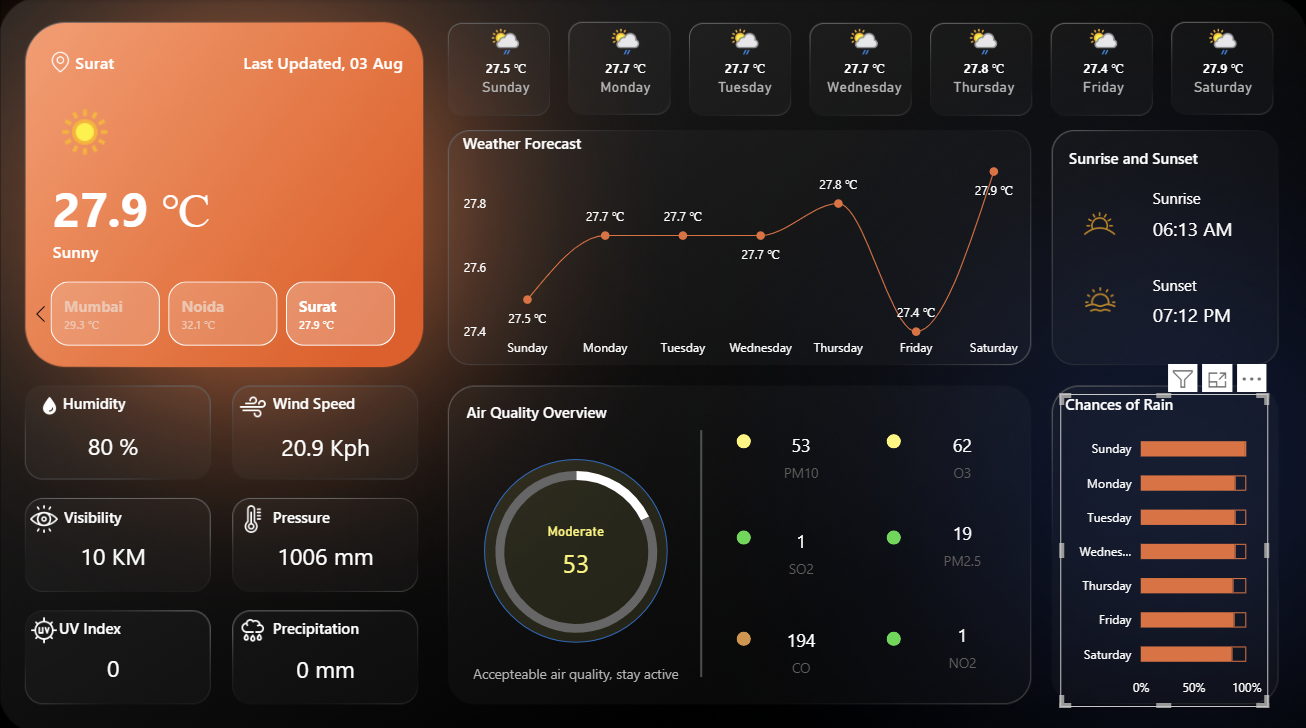

What the dashboard file says about the page in this screenshot:
{"tool":"powerbi","page":{"name":"Page 1","canvas":[1280,720],"ordinal":0},"visuals":[{"type":"shape","box":[474.8,450.3,179.9,179.9],"z":0},{"type":"donutChart","fields":{"Y":["Sum(Current.current.air_quality.pm10)","_Measures Table.Left_value_PM10"]},"box":[461.3,433.2,208,216.6],"z":1000},{"type":"card","fields":{"Values":["Sum(Current.current.air_quality.pm10)"]},"box":[521.3,514,86.9,66.1],"z":2000},{"type":"advancedSlicerVisual","fields":{"Values":["Locations.location.name"]},"box":[25.6,272.1,388.4,73.3],"z":3000},{"type":"shape","box":[53.1,172.7,194.5,62.8],"z":4000},{"type":"shape","box":[53.1,227.1,353.9,38.6],"z":5000},{"type":"shape","box":[74.9,44.7,129.2,32.6],"z":6000},{"type":"shape","box":[229.5,44.7,165.5,32.6],"z":7000},{"type":"image","box":[44.7,44.7,30.2,32.6],"z":8000},{"type":"cardVisual","fields":{"Data":["Min(Current.current.condition.icon)"]},"box":[25.4,73.7,99,99],"z":9000},{"type":"image","box":[34.9,379.1,27.9,37.2],"z":10000},{"type":"image","box":[230.2,379.1,37.2,40.7],"z":11000},{"type":"image","box":[25.6,490.7,37.2,37.2],"z":12000},{"type":"image","box":[230.2,490.7,37.2,37.2],"z":13000},{"type":"image","box":[25.6,600,37.2,37.2],"z":14000},{"type":"image","box":[230.2,600,37.2,37.2],"z":15000},{"type":"shape","box":[62.8,379.1,110.5,32.6],"z":16000},{"type":"shape","box":[267.4,379.1,110.5,32.6],"z":17000},{"type":"shape","box":[64,490.7,110.5,32.6],"z":18000},{"type":"shape","box":[267.4,490.7,110.5,32.6],"z":19000},{"type":"shape","box":[59.3,600,110.5,32.6],"z":20000},{"type":"shape","box":[267.4,600,110.5,32.6],"z":21000},{"type":"card","fields":{"Values":["_Measures Table.Humidity"]},"box":[53.5,419.8,116.3,38.4],"z":22000},{"type":"card","fields":{"Values":["_Measures Table.Wind_speed"]},"box":[261.6,420.9,116.3,38.4],"z":23000},{"type":"card","fields":{"Values":["_Measures Table.Visibility"]},"box":[53.5,527.9,116.3,38.4],"z":24000},{"type":"card","fields":{"Values":["_Measures Table.Pressure"]},"box":[261.6,527.9,116.3,38.4],"z":25000},{"type":"card","fields":{"Values":["_Measures Table.UV_index"]},"box":[53.5,637.2,116.3,38.4],"z":26000},{"type":"card","fields":{"Values":["_Measures Table.Precipitation"]},"box":[261.6,638.4,116.3,38.4],"z":27000},{"type":"advancedSlicerVisual","fields":{"Values":["Forecast_Day.Day_name"]},"box":[437.2,18.6,822.1,94.2],"z":28000},{"type":"lineChart","title":"Weather Forecast","fields":{"Y":["Sum(Forecast_Day.forecast.forecastday.day.avgtemp_c)"],"Category":["Forecast_Day.Day_name"]},"box":[448.8,131.4,560.5,229.1],"z":29000},{"type":"shape","box":[1047.3,139.8,133.7,33.1],"z":30000},{"type":"shape","box":[1129.4,203.6,121.4,42.9],"z":31000},{"type":"shape","box":[1129.4,288.2,121.4,42.9],"z":32000},{"type":"image","box":[1047.3,195,60.1,50.3],"z":33000},{"type":"image","box":[1058.3,273.5,39.2,42.9],"z":34000},{"type":"shape","box":[1129.4,177.8,121.4,34.3],"z":35000},{"type":"shape","box":[1129.4,266.1,121.4,29.4],"z":36000},{"type":"hundredPercentStackedBarChart","title":"Chances of Rain","fields":{"Y":["Sum(Forecast_Day.forecast.forecastday.day.daily_chance_of_rain)","_Measures Table.left Updated data current"],"Category":["Forecast_Day.Day_name"]},"box":[1039.5,387.2,202.3,305.8],"z":37000},{"type":"shape","box":[458.1,388.4,146.5,32.6],"z":38000},{"type":"card","fields":{"Values":["Sum(Current.current.air_quality.o3)"]},"box":[901.3,412.1,85.3,69.9],"z":39000},{"type":"card","fields":{"Values":["Sum(Current.current.air_quality.pm2_5)"]},"box":[901.3,502.1,85.3,64],"z":40000},{"type":"card","fields":{"Values":["Sum(Current.current.air_quality.pm10)"]},"box":[741.4,412.1,87.6,69.9],"z":41000},{"type":"card","fields":{"Values":["Sum(Current.current.air_quality.so2)"]},"box":[741.4,506.9,87.6,69.9],"z":42000},{"type":"card","fields":{"Values":["Sum(Current.current.air_quality.co)"]},"box":[741.4,602.8,87.6,69.9],"z":43000},{"type":"card","fields":{"Values":["Sum(Current.current.air_quality.no2)"]},"box":[901.3,598.1,85.3,69.9],"z":44000},{"type":"shape","box":[722.4,426.4,14.2,14.2],"z":45000},{"type":"shape","box":[869.3,426.4,14.2,14.2],"z":46000},{"type":"shape","box":[722.4,519.9,14.2,14.2],"z":47000},{"type":"shape","box":[869.3,519.9,14.2,14.2],"z":48000},{"type":"shape","box":[722.4,619.4,14.2,14.2],"z":49000},{"type":"shape","box":[869.3,619.4,14.2,14.2],"z":50000},{"type":"shape","box":[678.6,421.6,16.6,241.6],"z":51000},{"type":"shape","box":[454,632.7,221.5,55.1],"z":52000}]}

Visuals, with their boxes in screenshot pixels (x1, y1, x2, y2), scaled from the page's 1280x720 canvas onto the 1306x728 screenshot:
shape: x1=484 y1=455 x2=668 y2=637
donutChart - Sum(Current.current.air_quality.pm10) x _Measures Table.Left_value_PM10: x1=471 y1=438 x2=683 y2=657
card - Sum(Current.current.air_quality.pm10): x1=532 y1=520 x2=621 y2=587
advancedSlicerVisual - Locations.location.name: x1=26 y1=275 x2=422 y2=349
shape: x1=54 y1=175 x2=253 y2=238
shape: x1=54 y1=230 x2=415 y2=269
shape: x1=76 y1=45 x2=208 y2=78
shape: x1=234 y1=45 x2=403 y2=78
image: x1=46 y1=45 x2=76 y2=78
cardVisual - Min(Current.current.condition.icon): x1=26 y1=75 x2=127 y2=175
image: x1=36 y1=383 x2=64 y2=421
image: x1=235 y1=383 x2=273 y2=424
image: x1=26 y1=496 x2=64 y2=534
image: x1=235 y1=496 x2=273 y2=534
image: x1=26 y1=607 x2=64 y2=644
image: x1=235 y1=607 x2=273 y2=644
shape: x1=64 y1=383 x2=177 y2=416
shape: x1=273 y1=383 x2=386 y2=416
shape: x1=65 y1=496 x2=178 y2=529
shape: x1=273 y1=496 x2=386 y2=529
shape: x1=61 y1=607 x2=173 y2=640
shape: x1=273 y1=607 x2=386 y2=640
card - _Measures Table.Humidity: x1=55 y1=424 x2=173 y2=463
card - _Measures Table.Wind_speed: x1=267 y1=426 x2=386 y2=464
card - _Measures Table.Visibility: x1=55 y1=534 x2=173 y2=573
card - _Measures Table.Pressure: x1=267 y1=534 x2=386 y2=573
card - _Measures Table.UV_index: x1=55 y1=644 x2=173 y2=683
card - _Measures Table.Precipitation: x1=267 y1=645 x2=386 y2=684
advancedSlicerVisual - Forecast_Day.Day_name: x1=446 y1=19 x2=1285 y2=114
"Weather Forecast" lineChart: x1=458 y1=133 x2=1030 y2=365
shape: x1=1069 y1=141 x2=1205 y2=175
shape: x1=1152 y1=206 x2=1276 y2=249
shape: x1=1152 y1=291 x2=1276 y2=335
image: x1=1069 y1=197 x2=1130 y2=248
image: x1=1080 y1=277 x2=1120 y2=320
shape: x1=1152 y1=180 x2=1276 y2=214
shape: x1=1152 y1=269 x2=1276 y2=299
"Chances of Rain" hundredPercentStackedBarChart: x1=1061 y1=392 x2=1267 y2=701
shape: x1=467 y1=393 x2=617 y2=426
card - Sum(Current.current.air_quality.o3): x1=920 y1=417 x2=1007 y2=487
card - Sum(Current.current.air_quality.pm2_5): x1=920 y1=508 x2=1007 y2=572
card - Sum(Current.current.air_quality.pm10): x1=756 y1=417 x2=846 y2=487
card - Sum(Current.current.air_quality.so2): x1=756 y1=513 x2=846 y2=583
card - Sum(Current.current.air_quality.co): x1=756 y1=609 x2=846 y2=680
card - Sum(Current.current.air_quality.no2): x1=920 y1=605 x2=1007 y2=675
shape: x1=737 y1=431 x2=752 y2=445
shape: x1=887 y1=431 x2=901 y2=445
shape: x1=737 y1=526 x2=752 y2=540
shape: x1=887 y1=526 x2=901 y2=540
shape: x1=737 y1=626 x2=752 y2=641
shape: x1=887 y1=626 x2=901 y2=641
shape: x1=692 y1=426 x2=709 y2=671
shape: x1=463 y1=640 x2=689 y2=695
